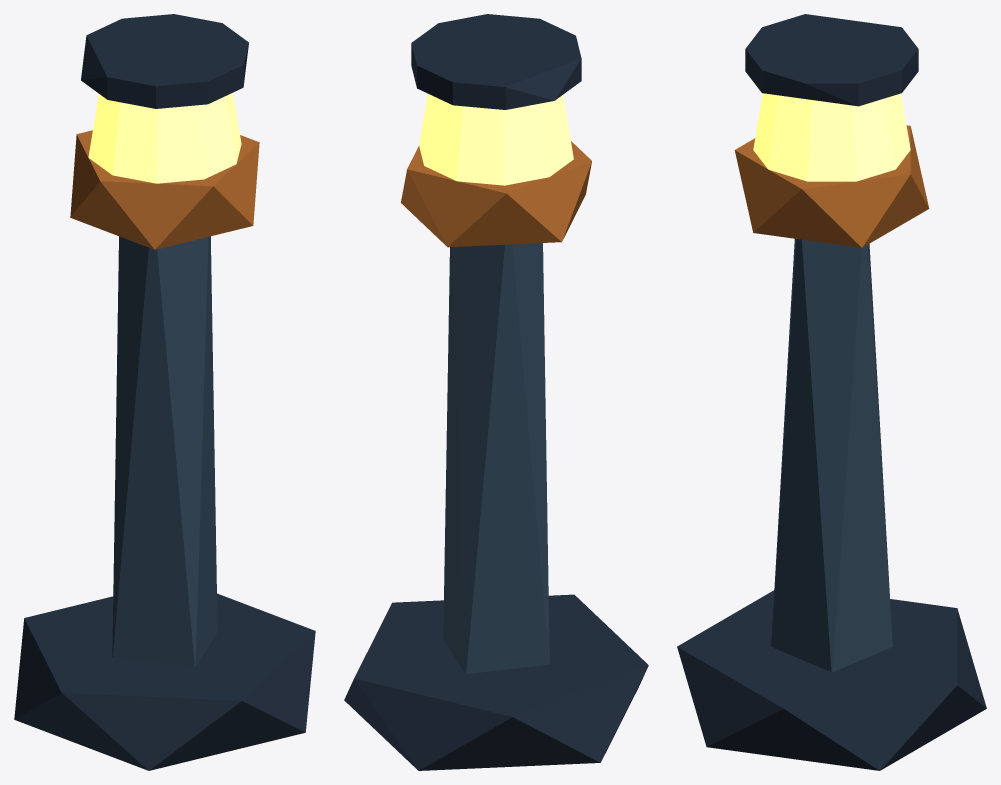
Rendered from frost_beacon-lod1.glb.
3 renders of one model, left to right at view 1: azimuth 30°, elevation 25°; view 2: azimuth 150°, elevation 25°; view 3: azimuth 270°, elevation 25°, orthographic.
Parts seen in each view (by area): view 1: frost_beacon, frost_beacon_lens; view 2: frost_beacon, frost_beacon_lens; view 3: frost_beacon, frost_beacon_lens.
Boxes of the visible parts, x1,y1,x2,y2 form: frost_beacon: [14, 130, 315, 770]; frost_beacon_lens: [81, 14, 248, 183]; frost_beacon: [344, 141, 648, 770]; frost_beacon_lens: [411, 14, 581, 185]; frost_beacon: [677, 125, 986, 770]; frost_beacon_lens: [745, 14, 918, 181].
Size of the model in its own units: 0.8179 by 2.02 by 0.8599.
